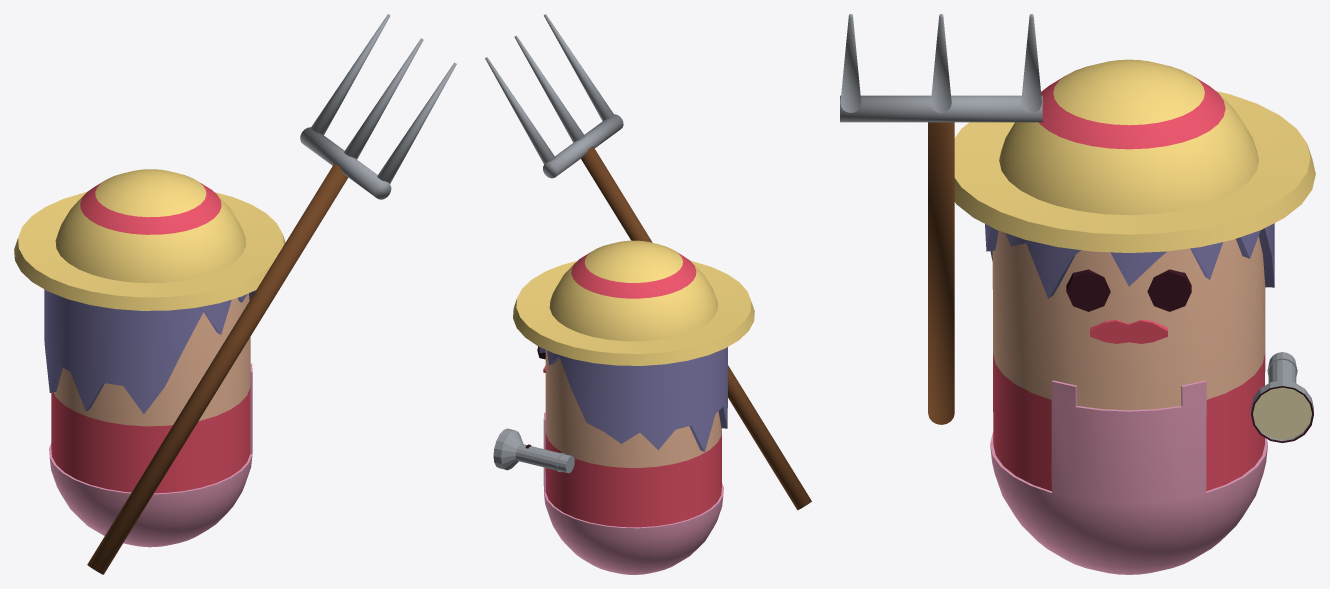
The model's file is Farmer-2.fbx.
The picture shows the model from 3 angles, left to right: view 1: azimuth 30°, elevation 25°; view 2: azimuth 150°, elevation 25°; view 3: azimuth 270°, elevation 25°; orthographic projection. The views are drawn at different scales.
Visible parts, largest first — view 1: Sphere, Cylinder.006; view 2: Sphere, Cylinder.006, Cylinder.002; view 3: Sphere, Cylinder.006, Cylinder.002, Cylinder.009, Plane.
Part boxes in pixels (x1=…): Sphere: x1=14, y1=169, x2=285, y2=547; Cylinder.006: x1=87, y1=14, x2=456, y2=574; Sphere: x1=513, y1=240, x2=754, y2=574; Cylinder.006: x1=485, y1=14, x2=811, y2=510; Cylinder.002: x1=493, y1=428, x2=574, y2=473; Sphere: x1=954, y1=59, x2=1315, y2=574; Cylinder.006: x1=840, y1=14, x2=1042, y2=424; Cylinder.002: x1=1251, y1=352, x2=1313, y2=442; Cylinder.009: x1=1066, y1=269, x2=1191, y2=311; Plane: x1=1090, y1=319, x2=1167, y2=343.
Bounding box in the file's own units: 169 × 242 × 153.
